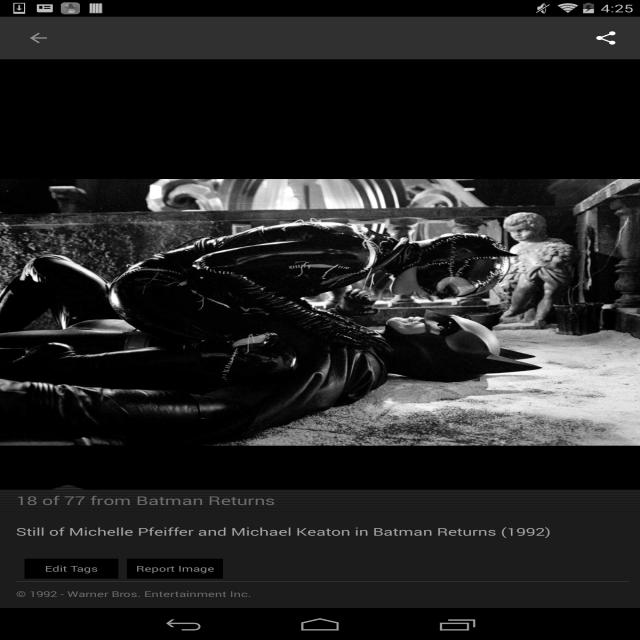Button: (127, 558, 223, 578), (24, 558, 119, 578)
ImageButton: (9, 17, 68, 59)
ImageView: (0, 17, 640, 608)
TextView: (16, 492, 629, 514), (16, 524, 551, 548), (16, 588, 629, 606), (580, 22, 632, 54)
